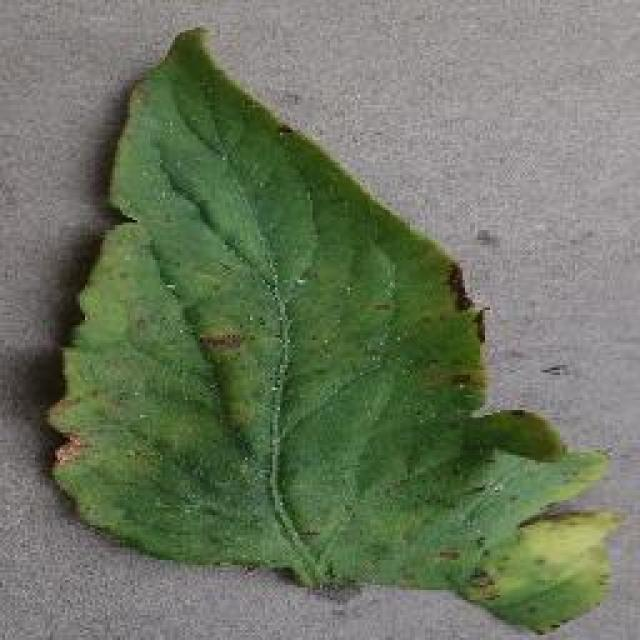Tomato bacterial spot leaf: (56, 31, 622, 631)
